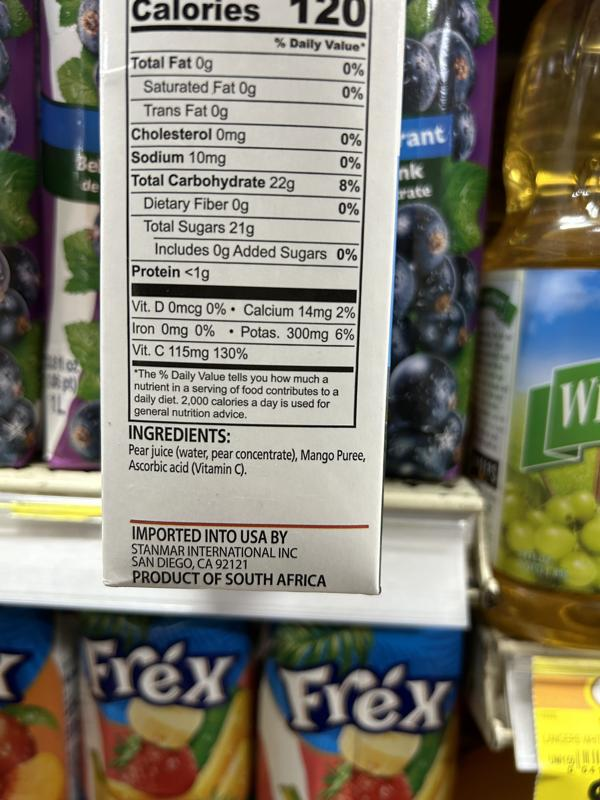ingredients: (125, 422, 367, 478)
